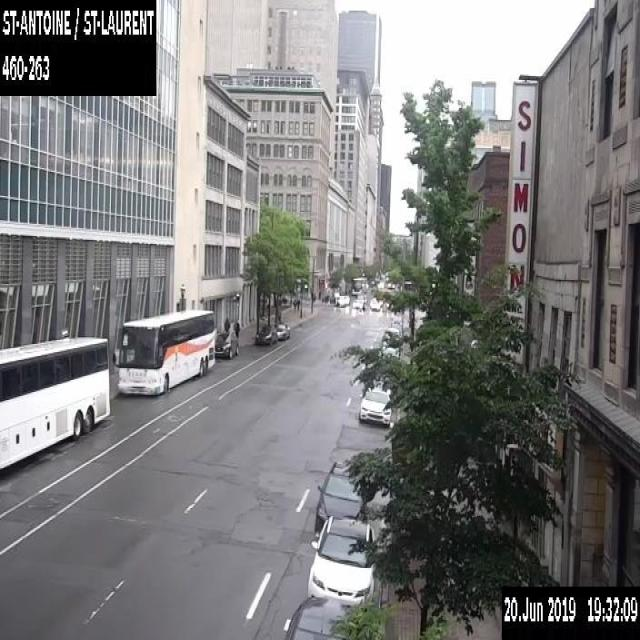bus: (0, 335, 110, 472), (114, 308, 216, 395), (352, 276, 366, 294)
pedestrian: (233, 318, 239, 338), (223, 316, 230, 331), (296, 297, 300, 308), (293, 297, 296, 311)
vehicle: (307, 514, 376, 605), (313, 456, 373, 536), (284, 596, 358, 638), (358, 376, 392, 427), (214, 330, 239, 358), (254, 324, 276, 344), (380, 340, 399, 358), (276, 322, 290, 340), (384, 326, 399, 341), (339, 294, 349, 304), (369, 300, 379, 310), (352, 298, 363, 307), (356, 293, 366, 301)
